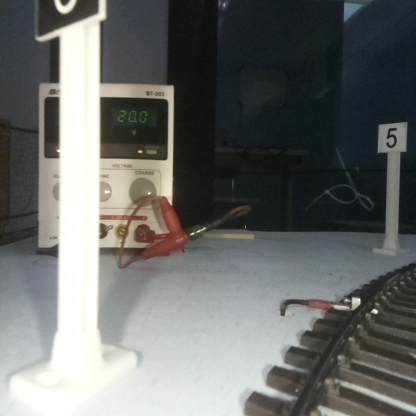white-info-5: (378, 123, 406, 253)
